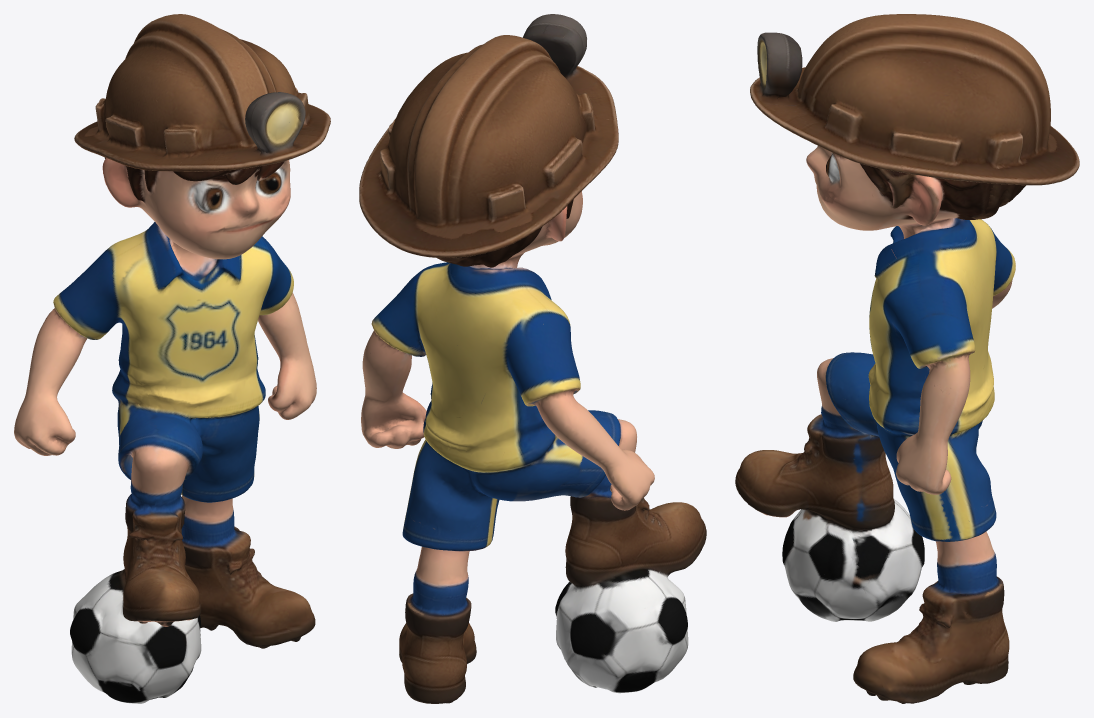
Rendered from mascota-23-marzo.glb.
3 views of the same model, side by side, from view 1: azimuth 30°, elevation 25°; view 2: azimuth 150°, elevation 25°; view 3: azimuth 270°, elevation 25° (orthographic). The views are drawn at different scales.
Parts seen in each view (by area): view 1: Mesh_0; view 2: Mesh_0; view 3: Mesh_0.
Boxes of the visible parts, box(x1,y1,x2,y2) form: Mesh_0: box(14, 14, 330, 703); Mesh_0: box(359, 14, 706, 703); Mesh_0: box(735, 14, 1079, 703).
Bounding box in the file's own units: 0.5705 × 1.18 × 0.566.
Materials: 1 (1 with a texture image).
